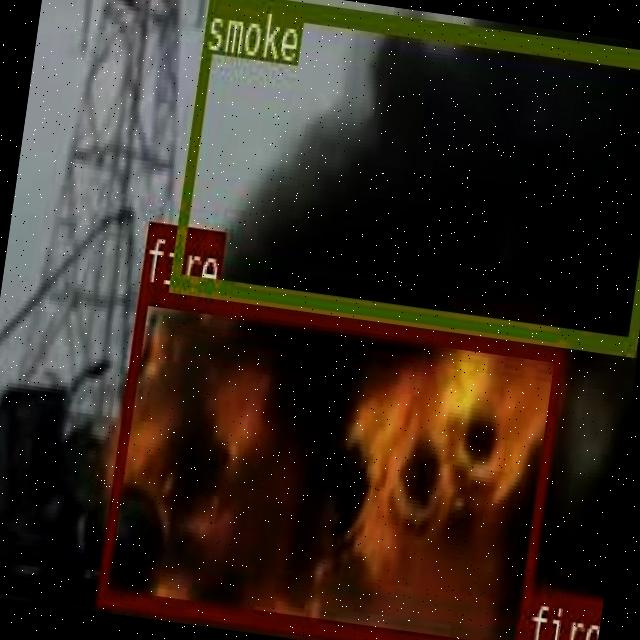fire: (94, 281, 564, 640), (524, 587, 594, 640)
smoke: (168, 0, 640, 353)
